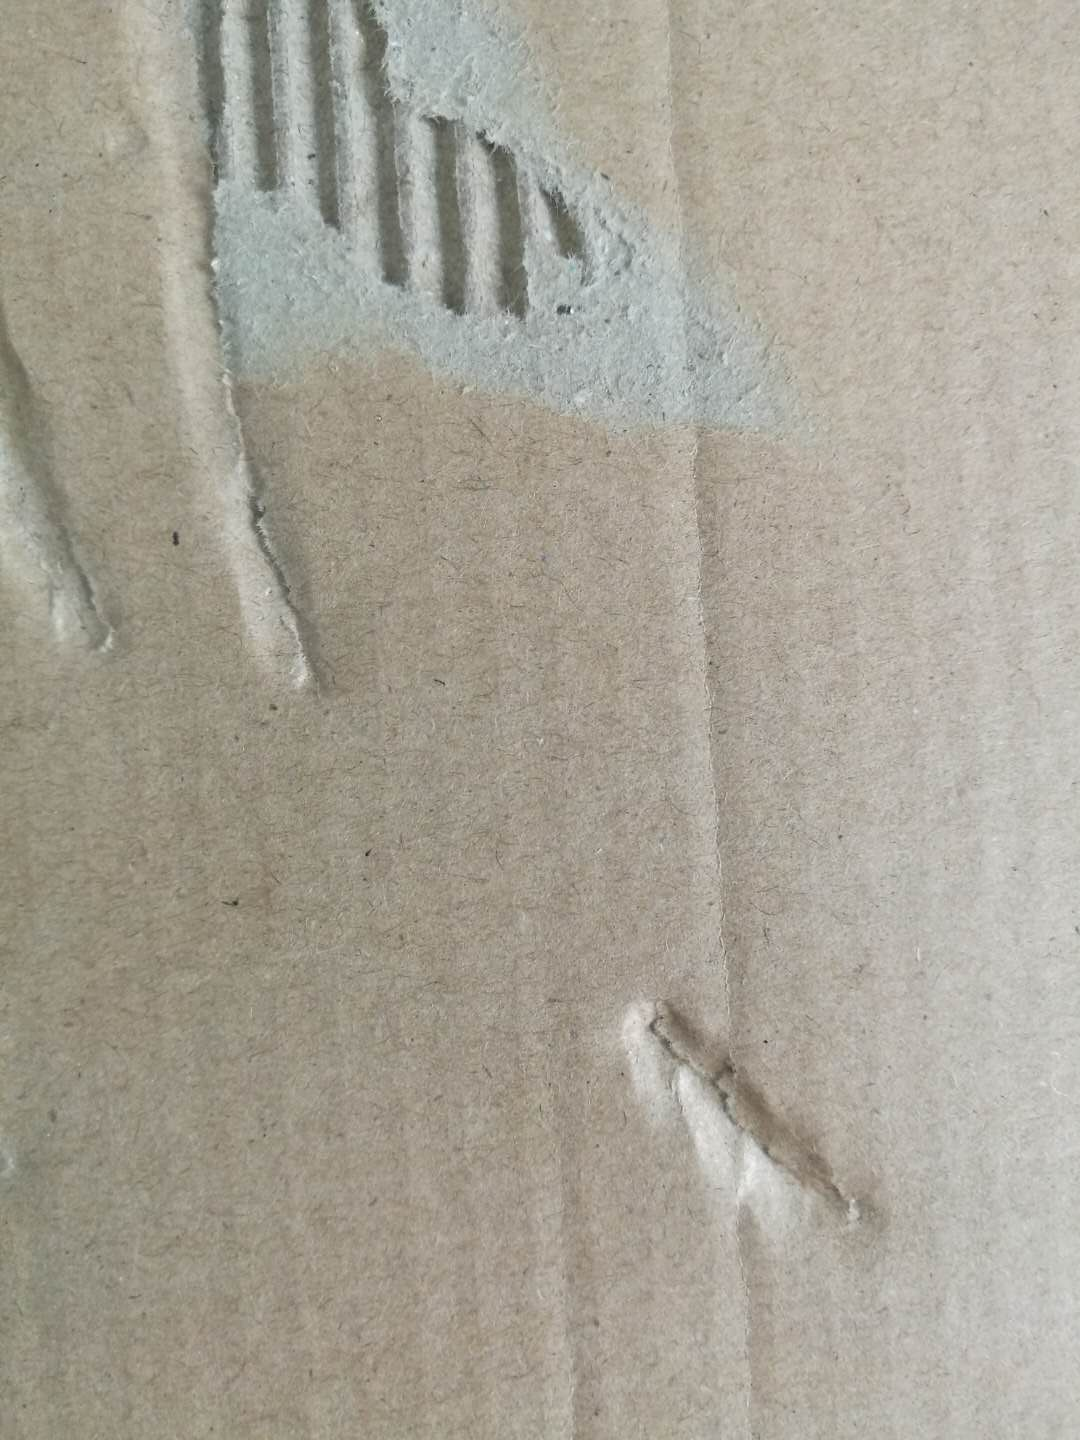defect: (112, 5, 839, 713), (626, 5, 805, 1440), (608, 972, 914, 1295), (1, 281, 132, 679)
